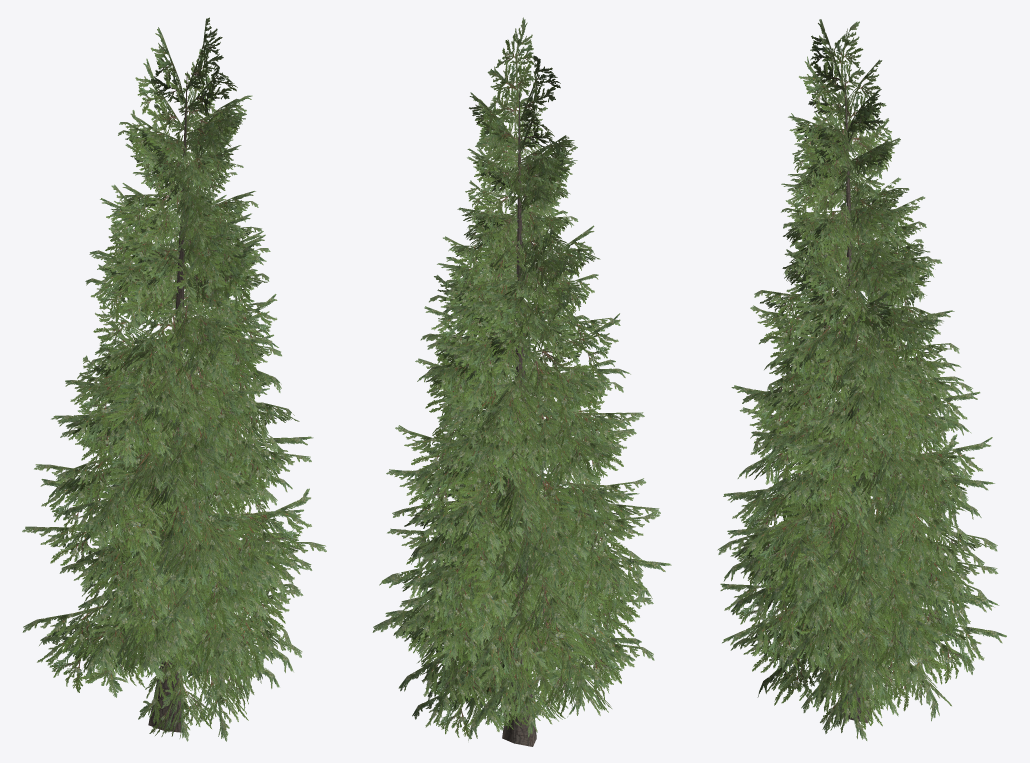
Rendered from Cupressus_Leylandii_Autumn_Adult.glb.
3 views of the same model, side by side, from view 1: azimuth 30°, elevation 25°; view 2: azimuth 150°, elevation 25°; view 3: azimuth 270°, elevation 25° (orthographic). The views are drawn at different scales.
Parts seen in each view (by area): view 1: Cupressus_Leylandii_Autumn_Adult__LOD3; view 2: Cupressus_Leylandii_Autumn_Adult__LOD3; view 3: Cupressus_Leylandii_Autumn_Adult__LOD3.
Boxes of the visible parts, x1,y1,x2,y2 form: Cupressus_Leylandii_Autumn_Adult__LOD3: (22,17,326,741); Cupressus_Leylandii_Autumn_Adult__LOD3: (372,17,671,746); Cupressus_Leylandii_Autumn_Adult__LOD3: (717,19,1006,740).
Bounding box in the file's own units: 2.95 × 7.62 × 2.98.
2 materials, 2 textured.
